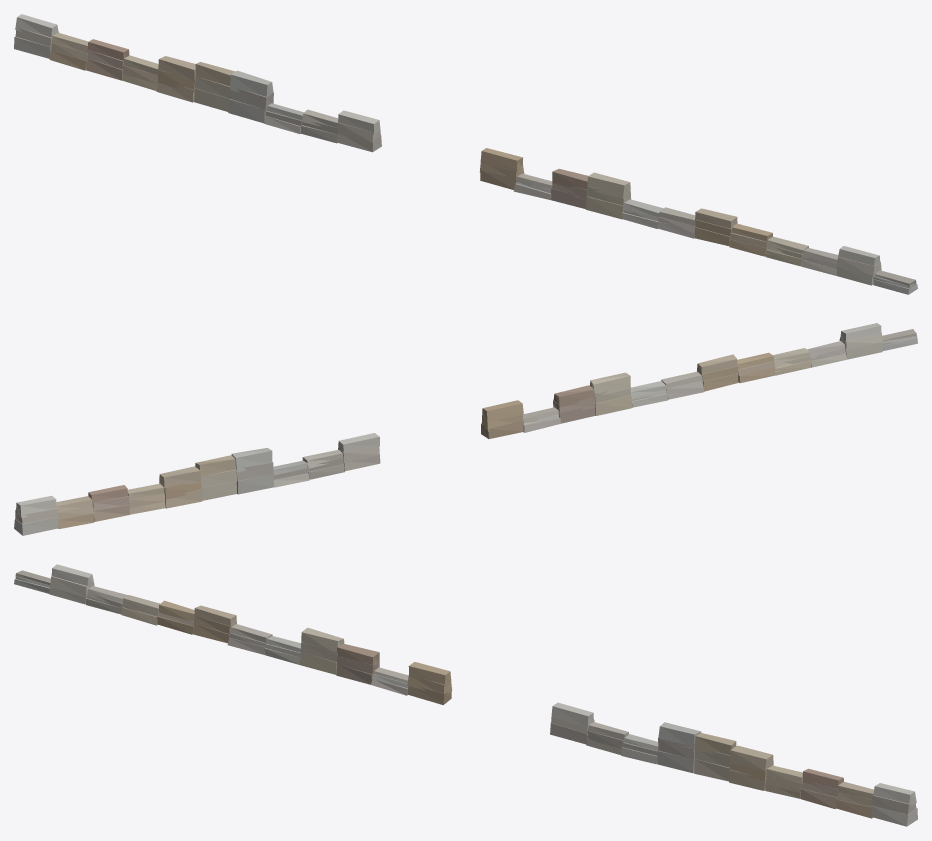
File: farm_12_13_mid.glb
3 renders of one model, top to bottom at view 1: azimuth 90°, elevation 25°; view 2: azimuth 150°, elevation 25°; view 3: azimuth 270°, elevation 25°, orthographic. The views are drawn at different scales.
Visible parts, largest first — view 1: geometry_0; view 2: geometry_0; view 3: geometry_0.
Boxes of the visible parts, x1,y1,x2,y2 form: geometry_0: (14, 14, 917, 294); geometry_0: (14, 323, 917, 535); geometry_0: (14, 564, 917, 826).
Bounding box in the file's own units: 21.53 × 1.57 × 32.87.
